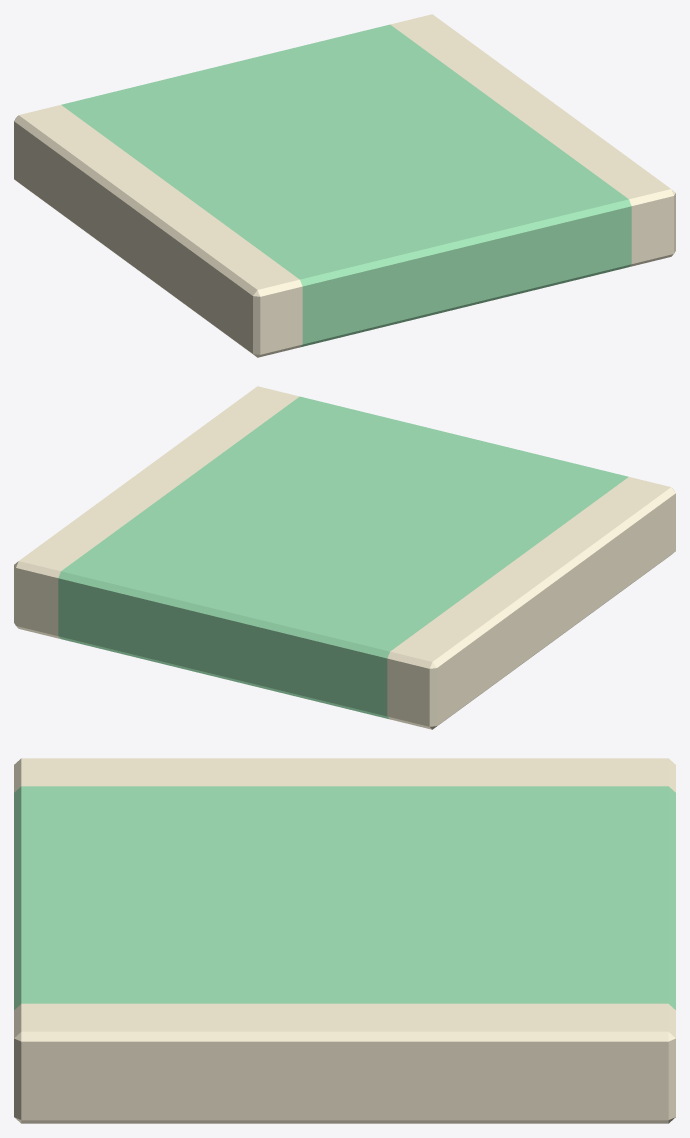
The model's file is Outside_Road_02.fbx.
3 renders of one model, top to bottom at view 1: azimuth 30°, elevation 25°; view 2: azimuth 150°, elevation 25°; view 3: azimuth 270°, elevation 25°, orthographic. The views are drawn at different scales.
Parts seen in each view (by area): view 1: Outside_Road_02; view 2: Outside_Road_02; view 3: Outside_Road_02.
Boxes of the visible parts, x1=… form: Outside_Road_02: x1=14, y1=14, x2=675, y2=357; Outside_Road_02: x1=14, y1=386, x2=675, y2=729; Outside_Road_02: x1=14, y1=758, x2=675, y2=1123.
Bounding box in the file's own units: 106 × 16.29 × 106.
